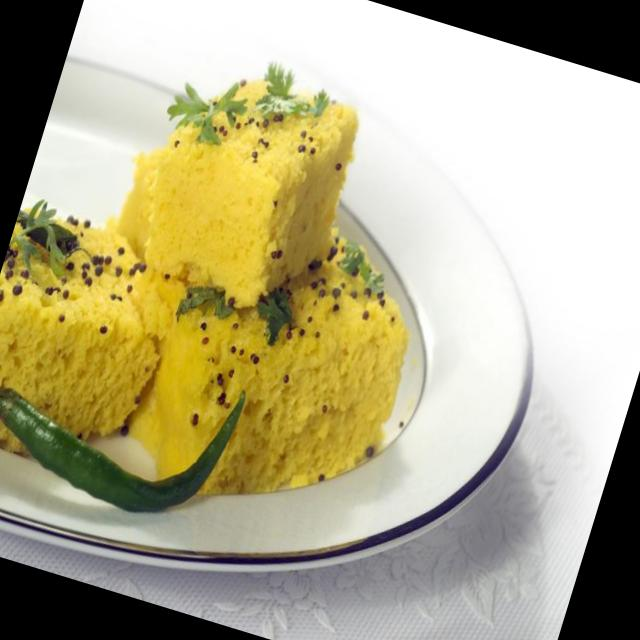dhokla: (0, 14, 487, 547)
